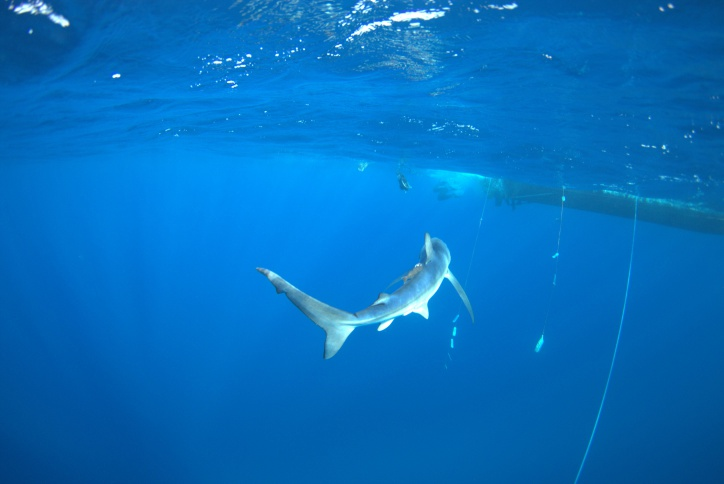Azul: (246, 214, 510, 360)
